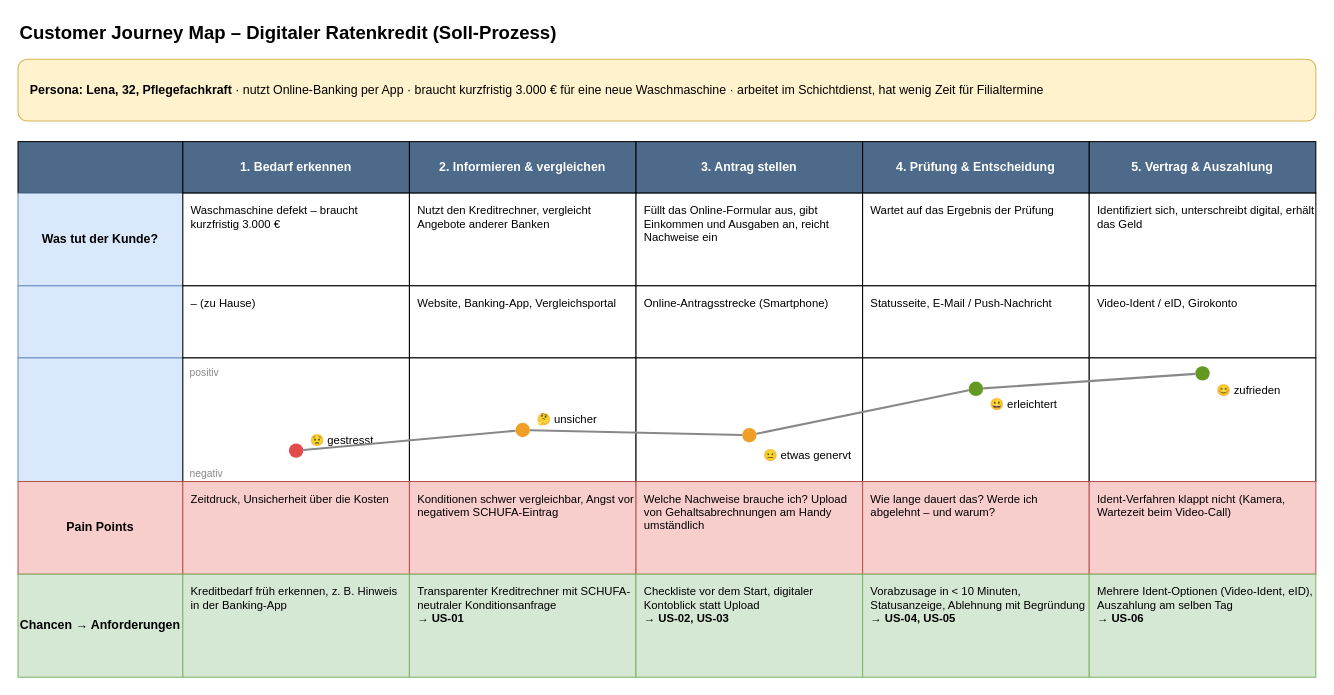
Image size: 1334x695. Some labels were removed from this diagram. The centre of each missing label's shape, as x and y in pixels:
"Gefühl" goes at point (100, 419).
"Phase" goes at point (100, 167).
"Touchpoints" goes at point (100, 321).
